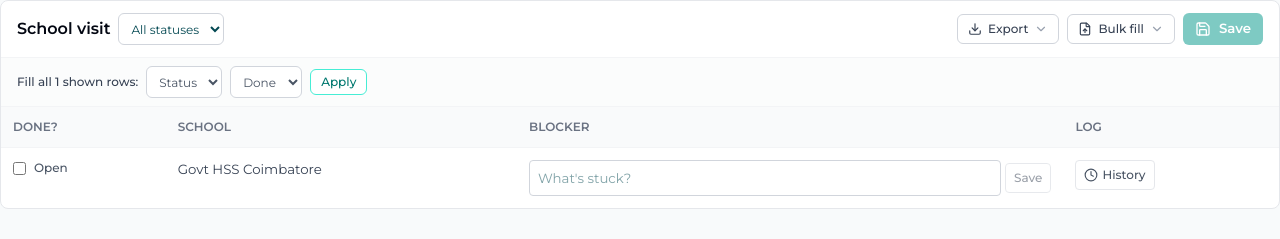
Test: grid toolbar — bulk fill menu › keeps the export and bulk fill menus independent
Step 1. Click the button "Export" → (1008, 29), box 957,14 -> 1059,44
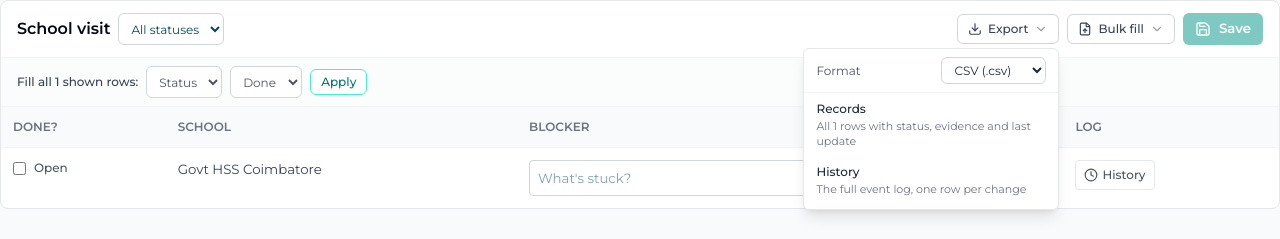
Step 2. Click the button "Bulk fill" → (1121, 29), box 1067,14 -> 1175,44
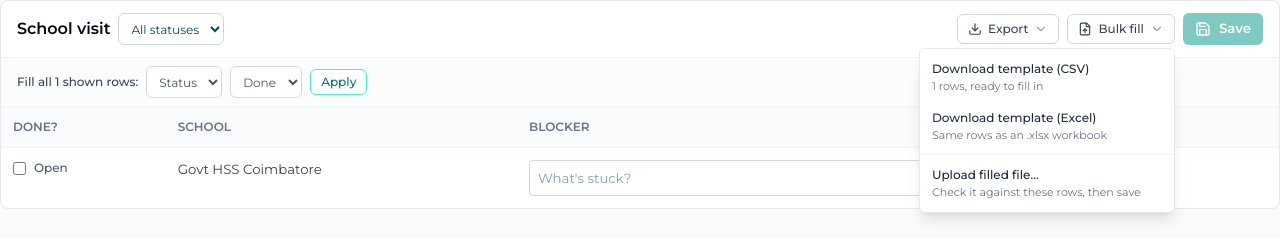
Expected: the menu item "Records" is gone
Expected: the menu item "Download template (CSV) 1 rows, ready to fill in" is shown, 920,53 -> 1174,102
